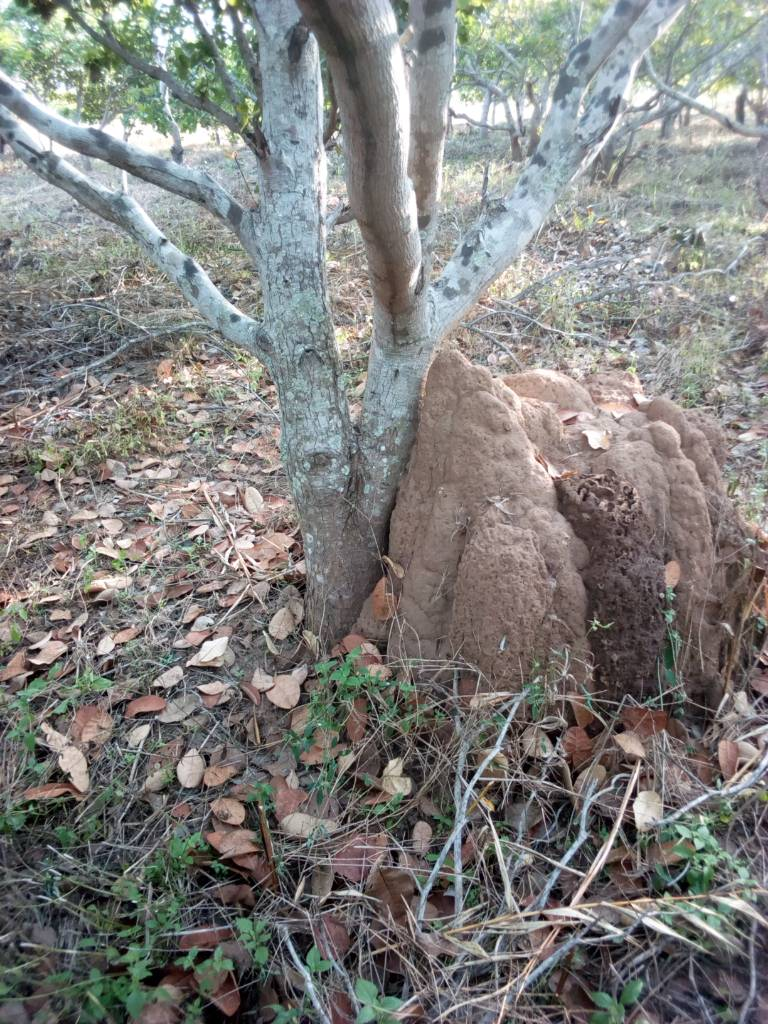Termites: (425, 350, 716, 666)
